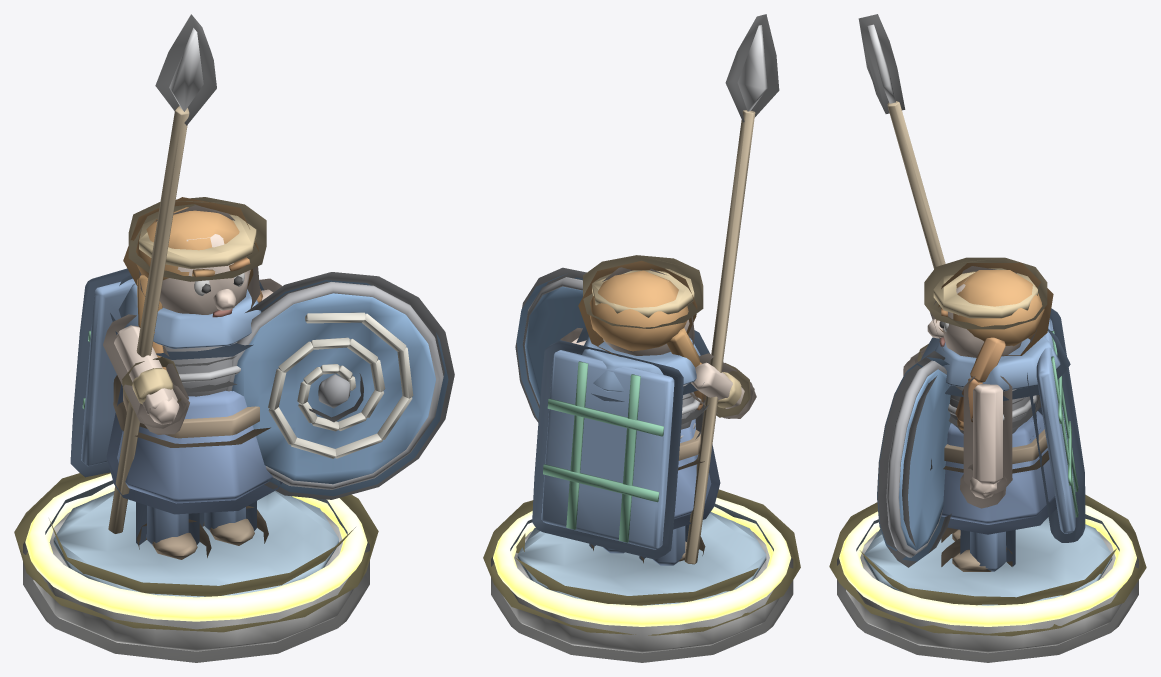
File: brenna.glb
The picture shows the model from 3 angles, left to right: view 1: azimuth 30°, elevation 25°; view 2: azimuth 150°, elevation 25°; view 3: azimuth 270°, elevation 25°; orthographic projection. The views are drawn at different scales.
Visible parts, largest first — view 1: M_HeroBrenna, M_Shield, M_Body.004, M_HeroBrenna_Outline, M_Body.004_Outline, M_Arm, M_Shield_Outline, M_Arm_Outline, M_Cape.001, M_Cape.001_Outline; view 2: M_HeroBrenna, M_Cape.001, M_Body.004, M_HeroBrenna_Outline, M_Arm, M_Cape.001_Outline, M_Body.004_Outline, M_Shield, M_Arm_Outline, M_Shield_Outline; view 3: M_HeroBrenna, M_Body.004, M_Body.004_Outline, M_HeroBrenna_Outline, M_Shield, M_Cape.001, M_Shield_Outline, M_Arm, M_Cape.001_Outline, M_Arm_Outline.
Part boxes in pixels (bbox=[...]): M_HeroBrenna: bbox=[25, 473, 367, 651]; M_Shield: bbox=[226, 282, 443, 489]; M_Body.004: bbox=[117, 207, 273, 559]; M_HeroBrenna_Outline: bbox=[14, 472, 378, 662]; M_Body.004_Outline: bbox=[106, 197, 282, 557]; M_Arm: bbox=[108, 28, 203, 533]; M_Shield_Outline: bbox=[245, 272, 454, 499]; M_Arm_Outline: bbox=[103, 14, 216, 434]; M_Cape.001: bbox=[81, 278, 135, 466]; M_Cape.001_Outline: bbox=[70, 268, 130, 477]; M_HeroBrenna: bbox=[493, 498, 791, 653]; M_Cape.001: bbox=[541, 350, 674, 549]; M_Body.004: bbox=[571, 268, 711, 565]; M_HeroBrenna_Outline: bbox=[483, 489, 800, 662]; M_Arm: bbox=[684, 25, 767, 564]; M_Cape.001_Outline: bbox=[532, 340, 683, 559]; M_Body.004_Outline: bbox=[560, 255, 720, 563]; M_Shield: bbox=[522, 277, 585, 408]; M_Arm_Outline: bbox=[683, 14, 779, 418]; M_Shield_Outline: bbox=[515, 267, 586, 422]; M_HeroBrenna: bbox=[839, 505, 1136, 653]; M_Body.004: bbox=[927, 268, 1060, 571]; M_Body.004_Outline: bbox=[920, 257, 1070, 566]; M_HeroBrenna_Outline: bbox=[829, 494, 1146, 662]; M_Shield: bbox=[886, 360, 951, 557]; M_Cape.001: bbox=[1036, 318, 1078, 533]; M_Shield_Outline: bbox=[877, 351, 951, 567]; M_Arm: bbox=[867, 24, 945, 268]; M_Cape.001_Outline: bbox=[1027, 308, 1085, 542]; M_Arm_Outline: bbox=[858, 14, 928, 375].
Bounding box in the file's own units: 2.03 × 3.49 × 1.79.
